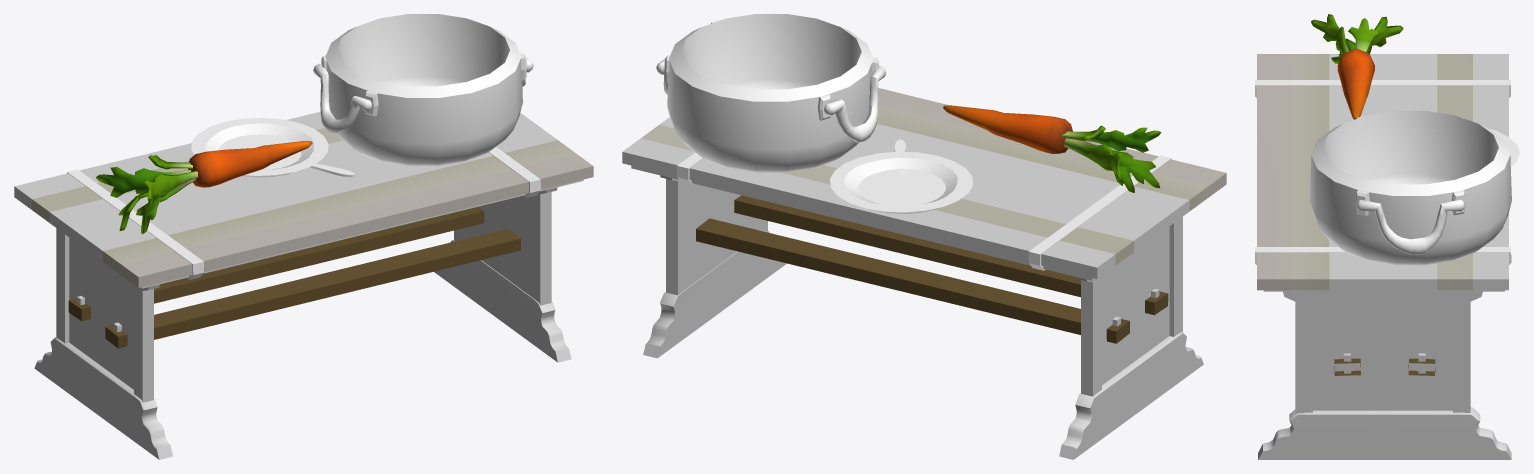
Rendered from prep_table.glb.
3 renders of one model, left to right at view 1: azimuth 30°, elevation 25°; view 2: azimuth 150°, elevation 25°; view 3: azimuth 270°, elevation 25°, orthographic. The views are drawn at different scales.
Parts seen in each view (by area): view 1: Cube084, Pot_1, Carrot, Table_Plate, Cube084_1; view 2: Cube084, Pot_1, Table_Plate, Carrot, Cube084_1; view 3: Cube084, Pot_1, Carrot, Cube084_1, Table_Plate.
Boxes of the visible parts, x1=… form: Cube084: x1=14, y1=111, x2=593, y2=459; Pot_1: x1=313, y1=14, x2=533, y2=166; Carrot: x1=96, y1=141, x2=312, y2=234; Table_Plate: x1=191, y1=117, x2=328, y2=177; Cube084_1: x1=67, y1=147, x2=540, y2=279; Cube084: x1=622, y1=88, x2=1226, y2=459; Pot_1: x1=656, y1=14, x2=886, y2=172; Table_Plate: x1=830, y1=151, x2=972, y2=214; Carrot: x1=943, y1=105, x2=1161, y2=192; Cube084_1: x1=677, y1=152, x2=1171, y2=270; Cube084: x1=1257, y1=54, x2=1511, y2=459; Pot_1: x1=1309, y1=111, x2=1511, y2=265; Carrot: x1=1311, y1=14, x2=1403, y2=119; Cube084_1: x1=1255, y1=80, x2=1510, y2=264; Table_Plate: x1=1489, y1=129, x2=1519, y2=166.
Bounding box in the file's own units: 2.06 × 1.17 × 1.02.
